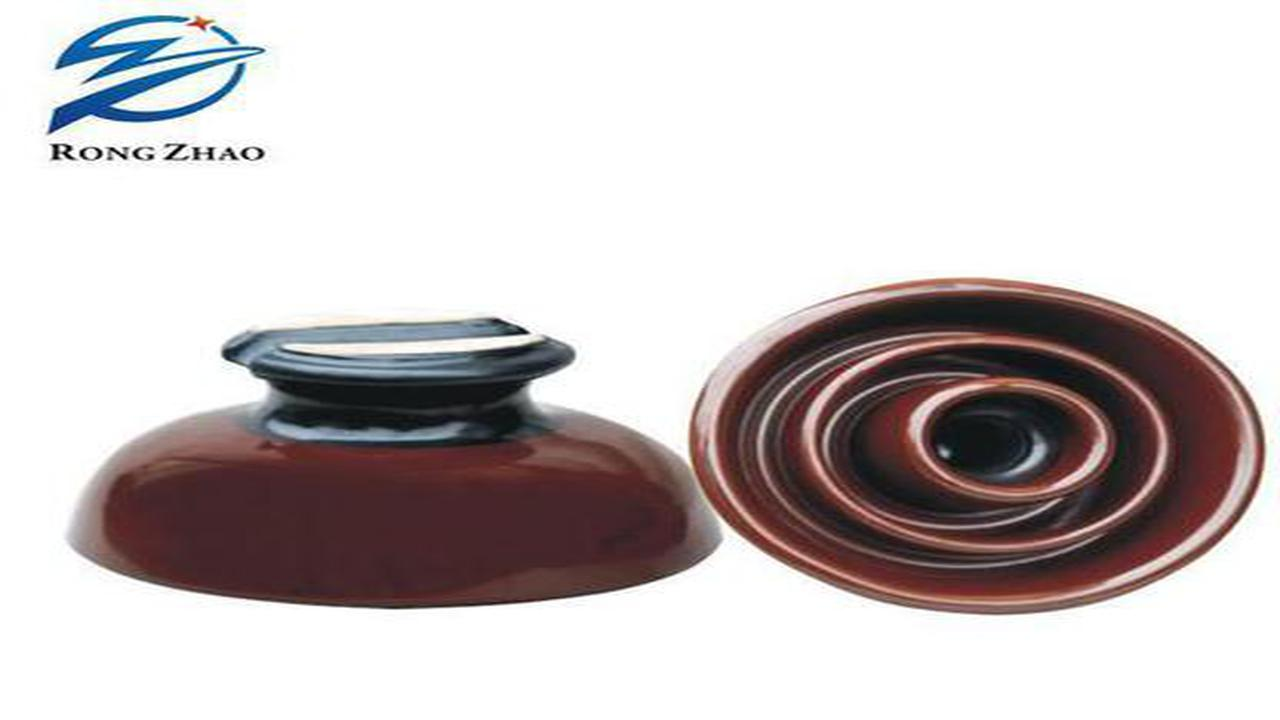insulator_pin: (58, 290, 730, 632)
